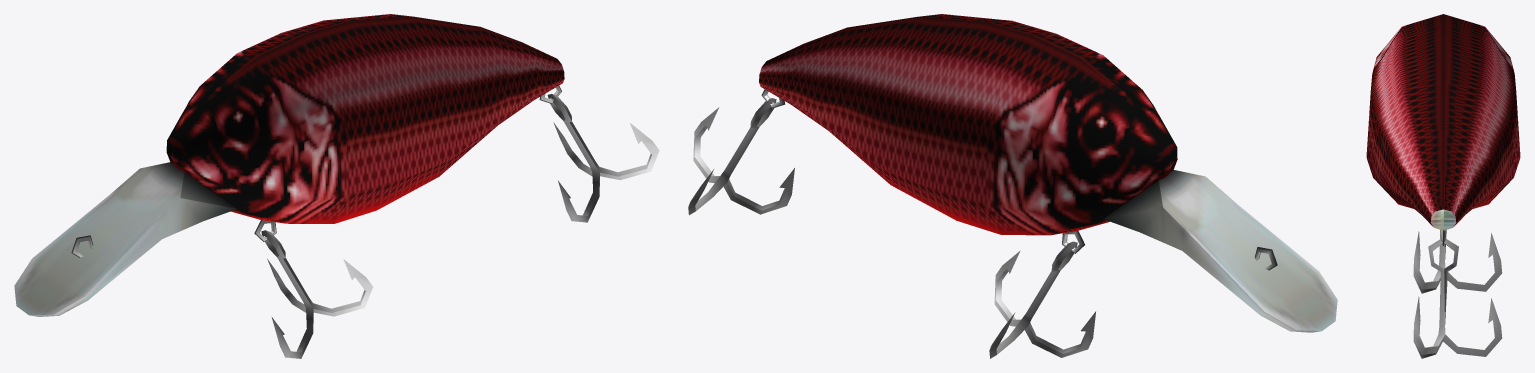
The model's file is icon.ico.obj.
3 renders of one model, left to right at view 1: azimuth 30°, elevation 25°; view 2: azimuth 150°, elevation 25°; view 3: azimuth 270°, elevation 25°, orthographic. The views are drawn at different scales.
Bounding box in the file's own units: 4.91 × 2.37 × 1.19.
1 material, 1 textured.
